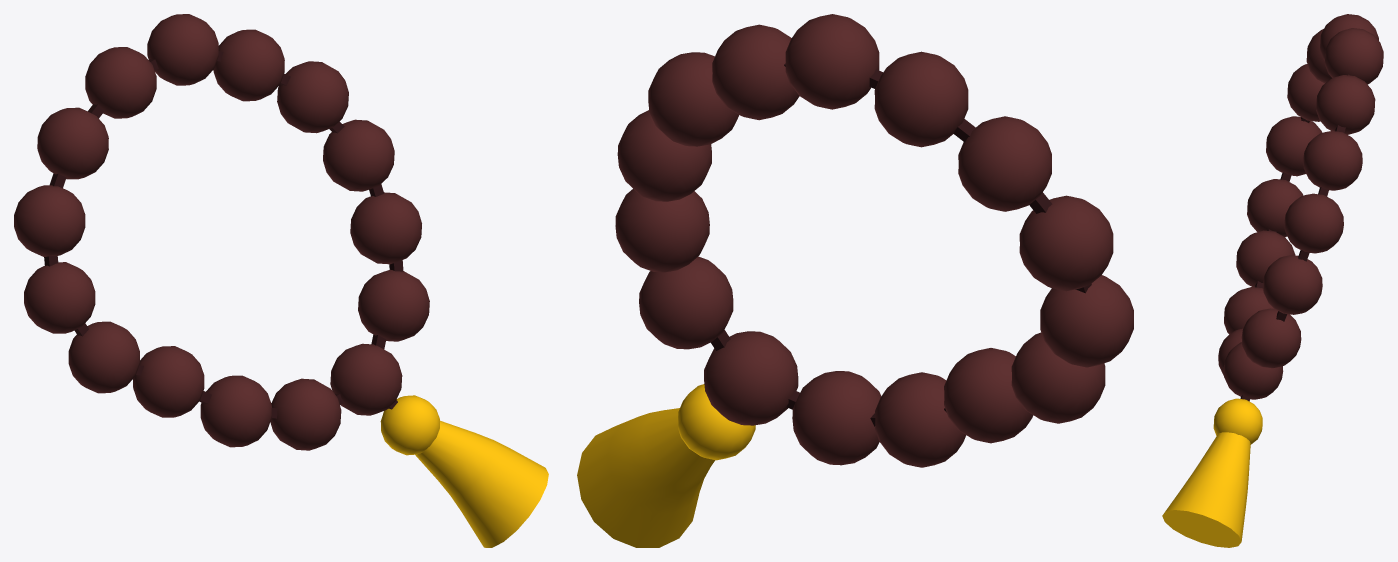
File: prayer_beads.gltf
3 renders of one model, left to right at view 1: azimuth 30°, elevation 25°; view 2: azimuth 150°, elevation 25°; view 3: azimuth 270°, elevation 25°, orthographic. The views are drawn at different scales.
Parts seen in each view (by area): view 1: Cube.6302; view 2: Cube.6302; view 3: Cube.6302.
Boxes of the visible parts, bbox=[...] form: Cube.6302: bbox=[14, 14, 548, 547]; Cube.6302: bbox=[577, 14, 1133, 547]; Cube.6302: bbox=[1162, 14, 1383, 547].
Bounding box in the file's own units: 2.05 × 2.18 × 1.02.
1 material, 1 textured.
